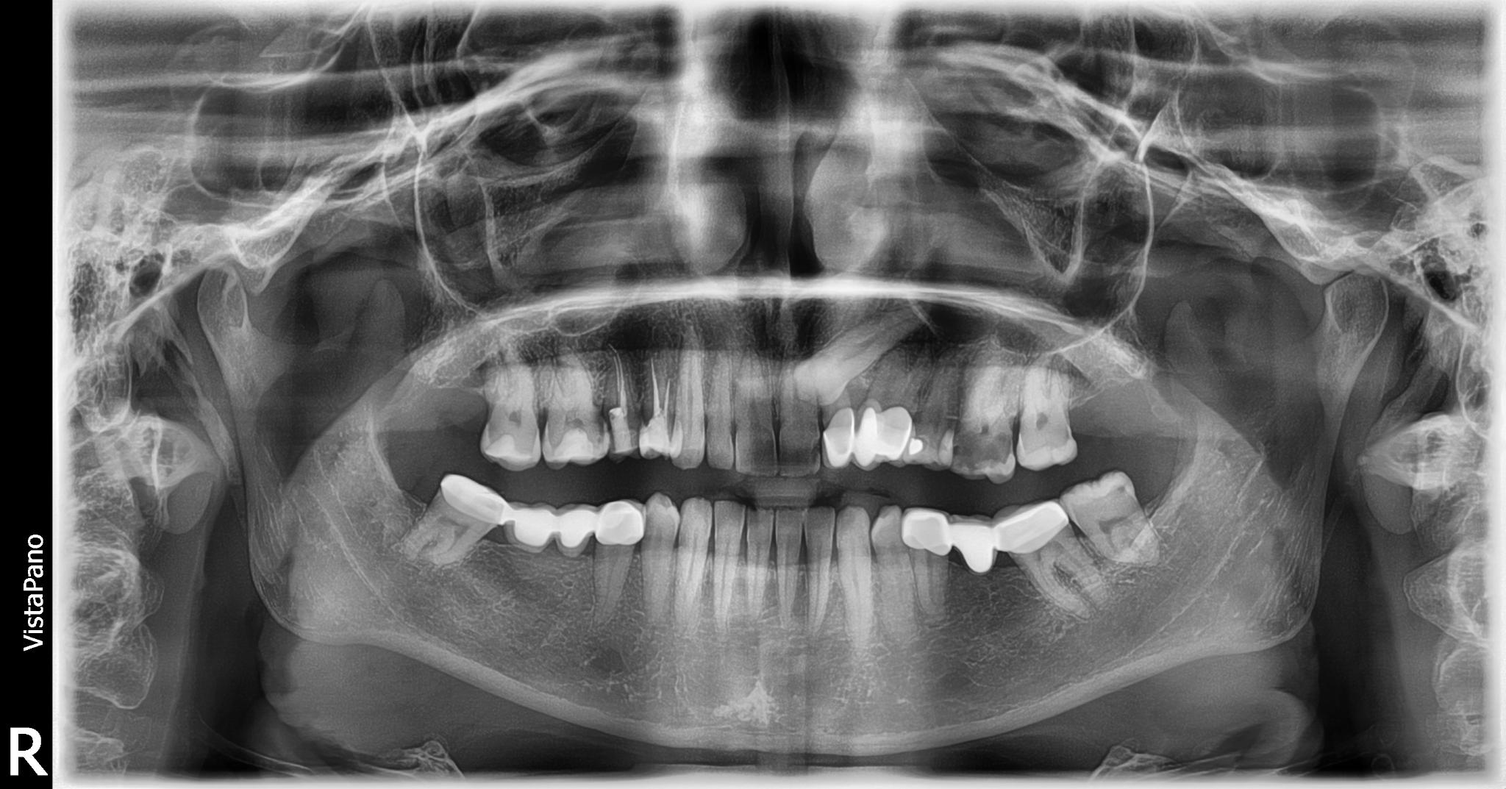Premolars: (564, 230, 1506, 699), (512, 168, 1504, 496), (296, 170, 853, 506)
